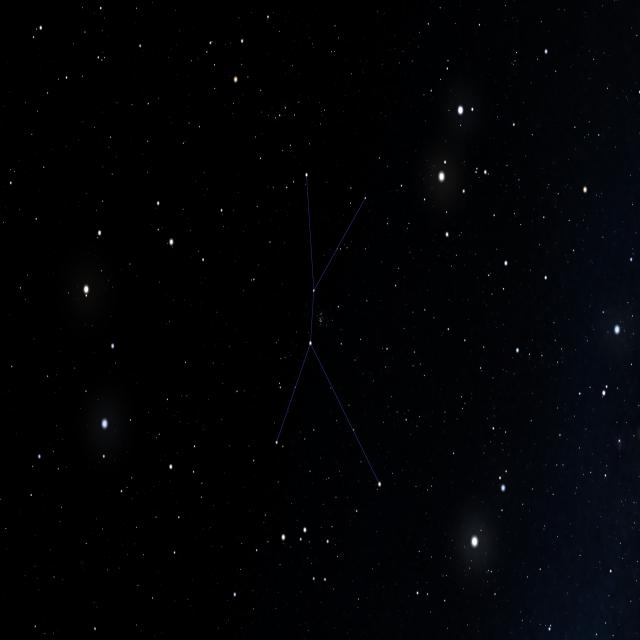Cancer: (269, 165, 388, 496)
